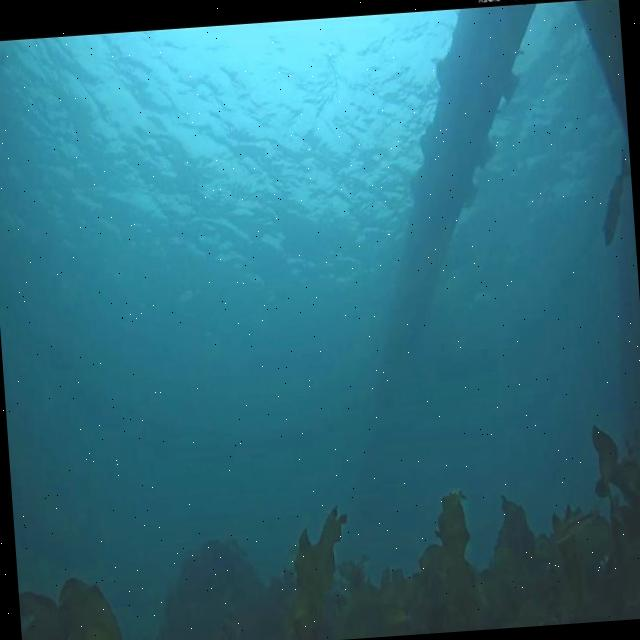fish: (596, 150, 636, 248), (546, 504, 602, 546)
